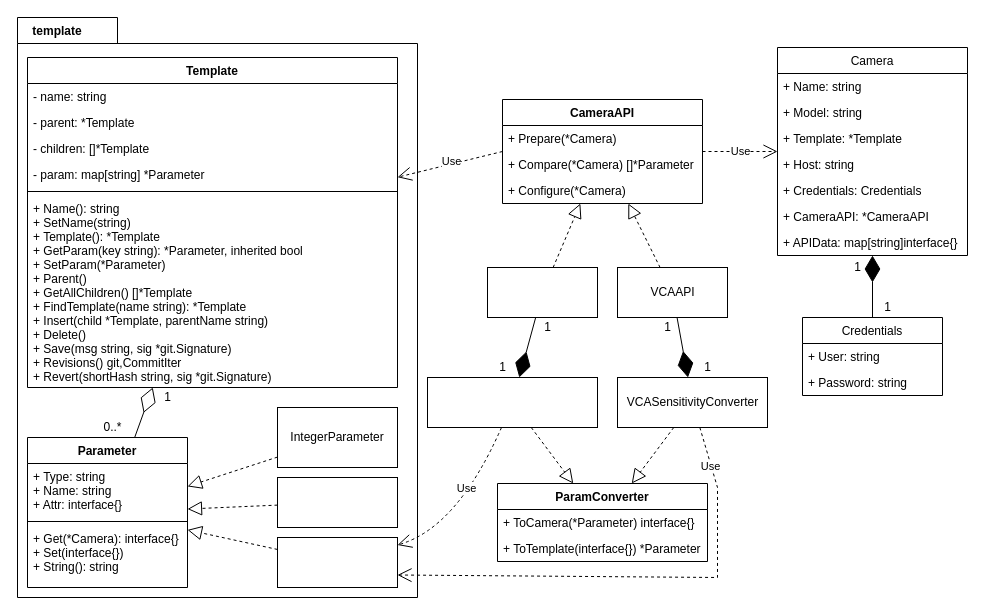
Some shapes in this 985 by 615 pixel diagram are drawn without their labels. The shapes that lost their labels are listed below. From the top down, each one's centre as x and y in pixels, then its label:
(542,292): HikvisionISAPI
(512,402): HikvisionSensitivityConverter
(337,502): StringParameter
(337,562): LevelParameter
